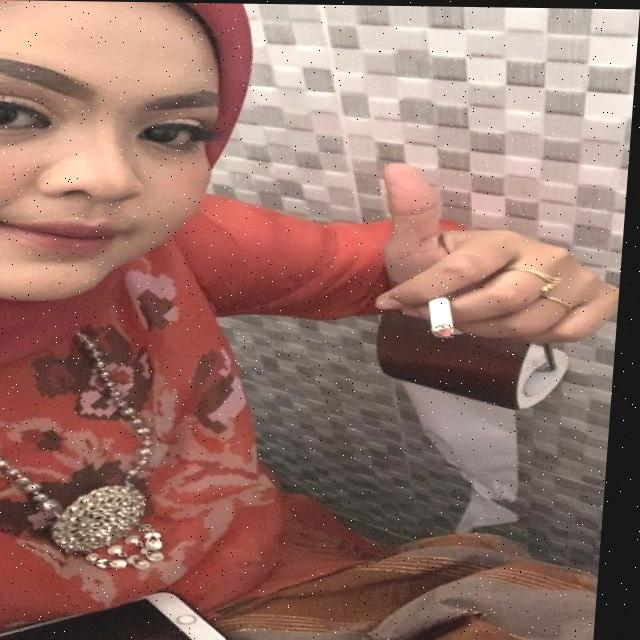cigarette: (431, 290, 465, 339)
